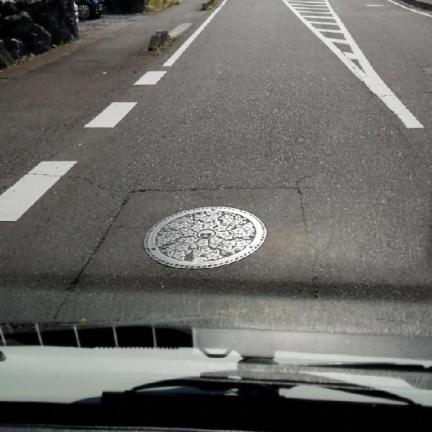Road: (0, 0, 431, 335)
